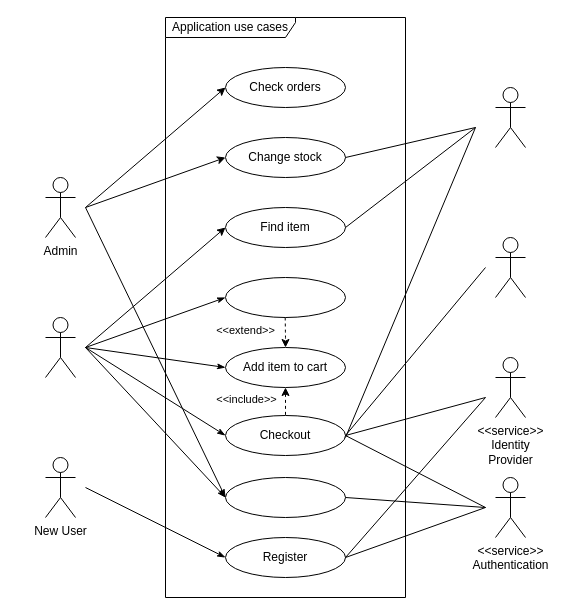
This 566x615 diagram has some shape labels left out. Here are the shapes that lost their labels. From the top down, the centre of each, then its label:
At pixel 510 117: "<<service>> item database connector".
At pixel 510 267: "Billing system".
At pixel 285 297: "View cart".
At pixel 60 347: "Registered User".
At pixel 285 497: "Login".
